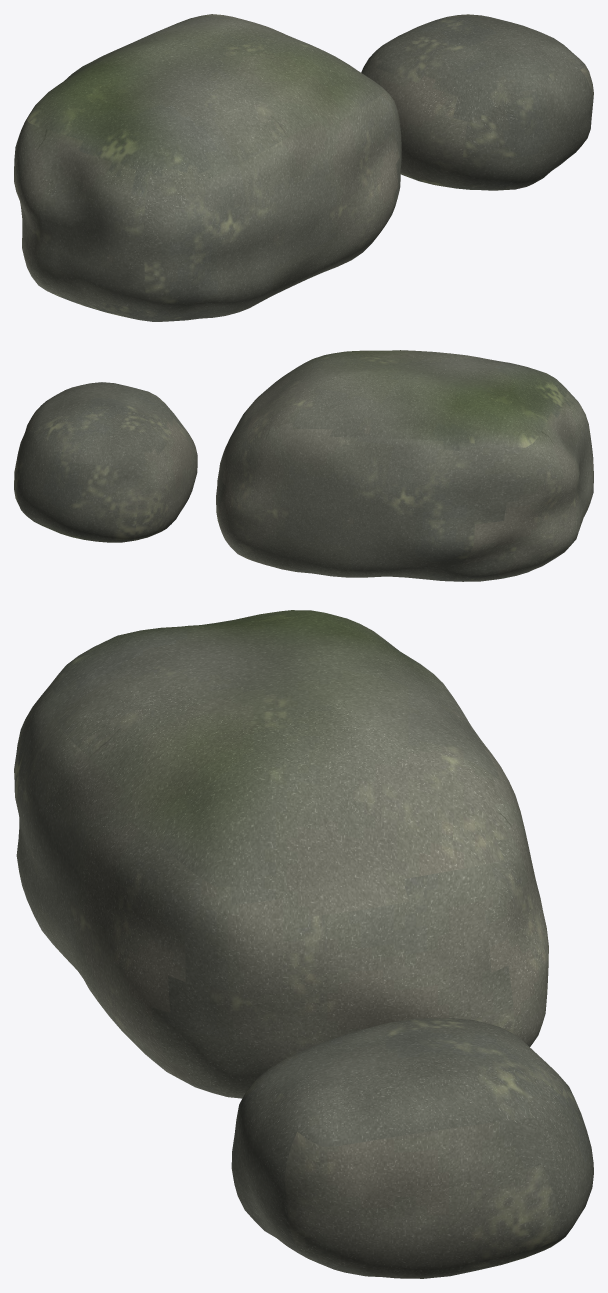
File: bed_rock_d.gltf
3 views of the same model, one above another, from view 1: azimuth 30°, elevation 25°; view 2: azimuth 150°, elevation 25°; view 3: azimuth 270°, elevation 25° (orthographic). The views are drawn at different scales.
Visible parts, largest first — view 1: bed_rock_d_LOD0; view 2: bed_rock_d_LOD0; view 3: bed_rock_d_LOD0.
Part boxes in pixels (<box>): bed_rock_d_LOD0: <box>14,14,593,321</box>; bed_rock_d_LOD0: <box>14,350,593,581</box>; bed_rock_d_LOD0: <box>14,610,593,1278</box>.
Size of what is drawn, in the model's own units: 0.6583 by 0.229 by 0.3687.
Materials: 1 (1 with a texture image).
